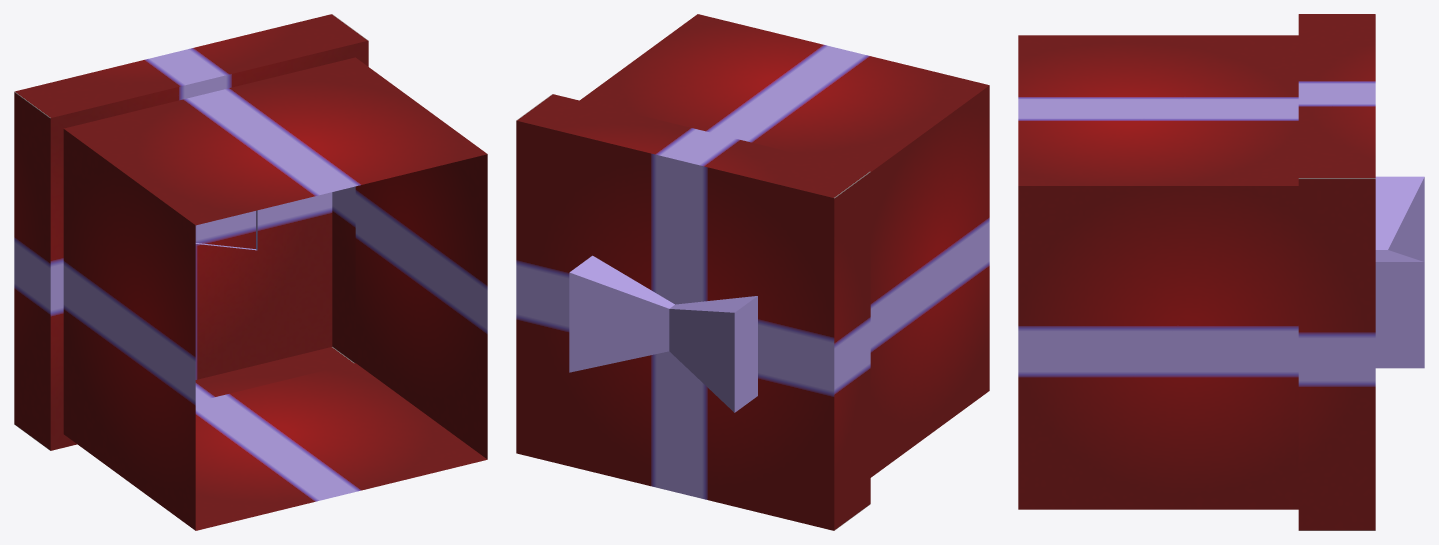
The model's file is present1.fbx.
3 views of the same model, side by side, from view 1: azimuth 30°, elevation 25°; view 2: azimuth 150°, elevation 25°; view 3: azimuth 270°, elevation 25° (orthographic). The views are drawn at different scales.
Visible parts, largest first — view 1: Present1; view 2: Present1; view 3: Present1.
Part boxes in pixels (box(x1,y1,x2,y2)): Present1: box(14, 14, 487, 530); Present1: box(516, 14, 989, 530); Present1: box(1018, 14, 1424, 530).
Size of the model in its own units: 0.533 by 0.533 by 0.5565.
